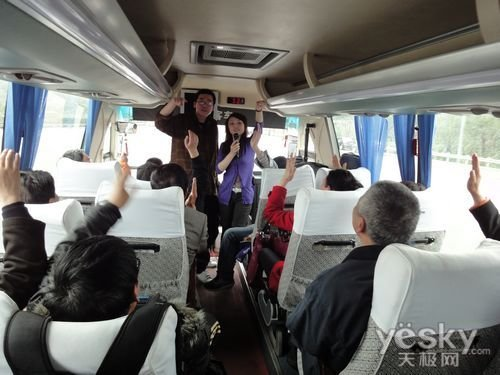handsup: (155, 76, 228, 254), (220, 98, 270, 245)
